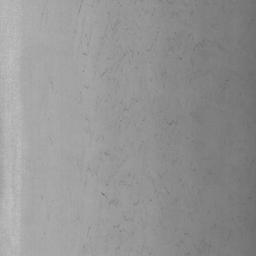Silk spot: (164, 119, 177, 128)
